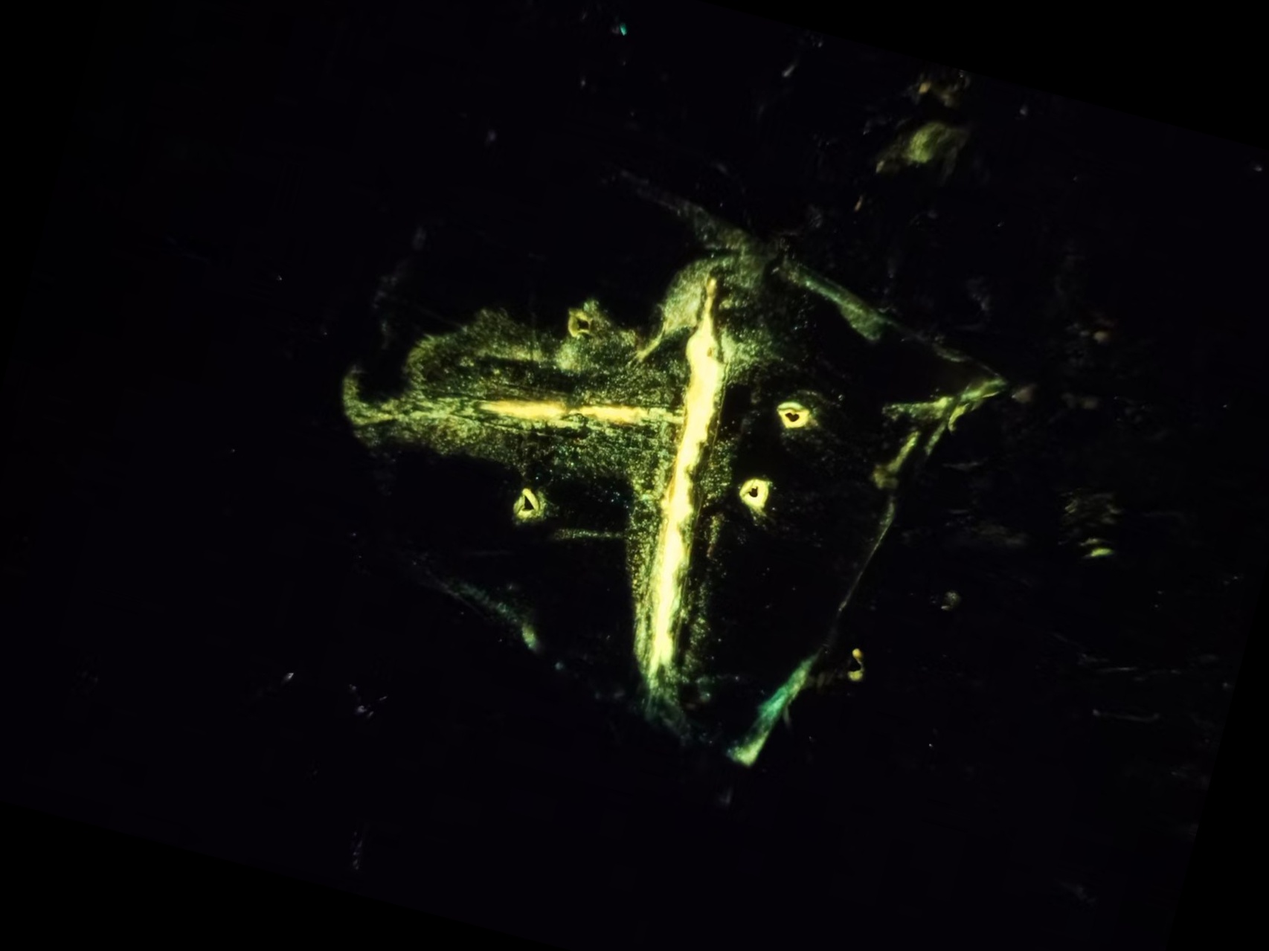Crater: (725, 453, 804, 528), (762, 379, 836, 449), (492, 473, 563, 537)
Fissure: (572, 252, 797, 723), (340, 319, 684, 515)
